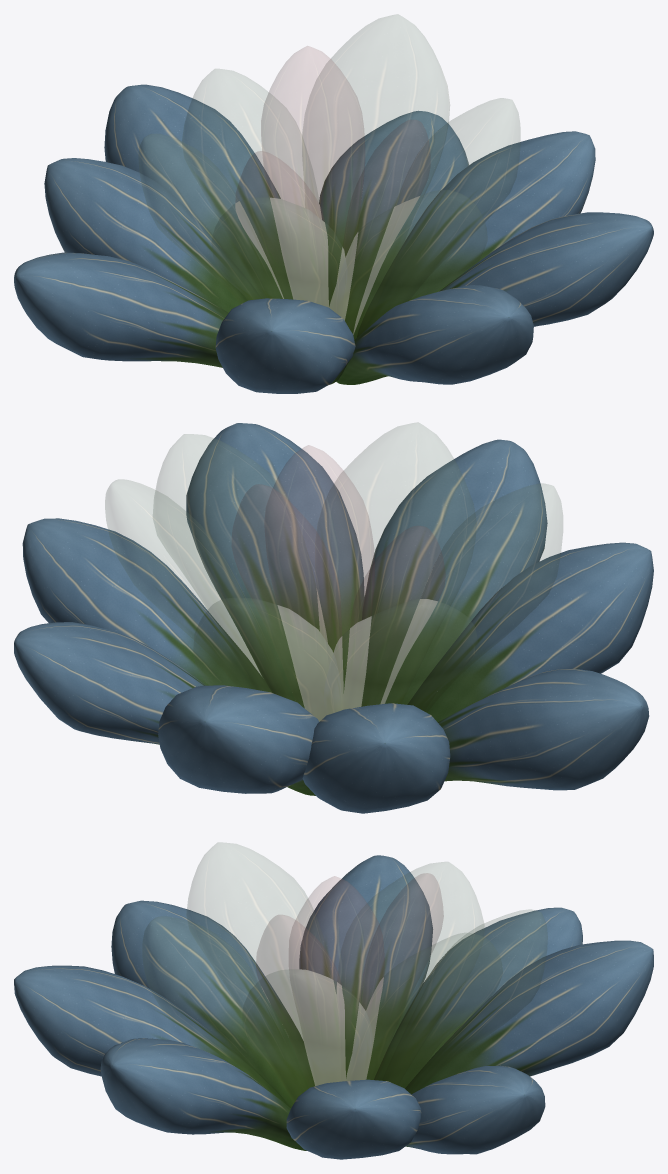
File: 03-rosette.glb
The picture shows the model from 3 angles, top to bottom: view 1: azimuth 30°, elevation 25°; view 2: azimuth 150°, elevation 25°; view 3: azimuth 270°, elevation 25°; orthographic projection. The views are drawn at different scales.
Parts seen in each view (by area): view 1: 03-rosette; view 2: 03-rosette; view 3: 03-rosette.
Boxes of the visible parts, left/top/right/bottom form: 03-rosette: left=14, top=14, right=653, bottom=393; 03-rosette: left=14, top=422, right=653, bottom=813; 03-rosette: left=14, top=842, right=653, bottom=1159.
Bounding box in the file's own units: 0.3884 × 0.1878 × 0.3943.
3 materials, 3 textured.
